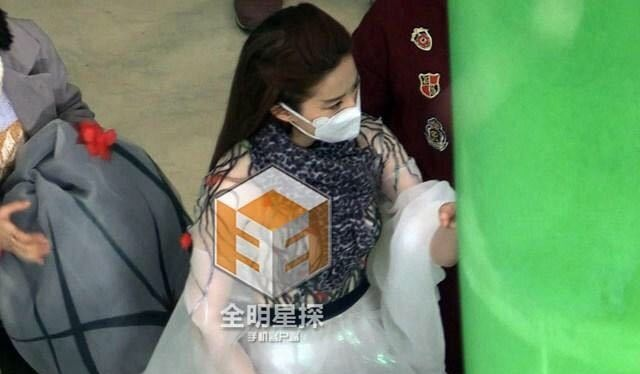face_mask: (310, 61, 365, 145)
